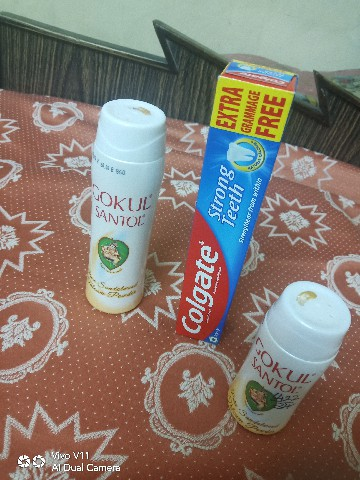colgatetoothpaste big: (169, 57, 298, 361)
gokulsantol big: (78, 86, 168, 322)
gokulsantol small: (226, 280, 350, 448)
